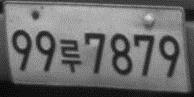7: (83, 32, 106, 75), (133, 34, 155, 77)
8: (110, 33, 132, 75)
9: (157, 34, 180, 78), (11, 28, 32, 71), (35, 30, 56, 72)
루: (58, 38, 82, 74)
